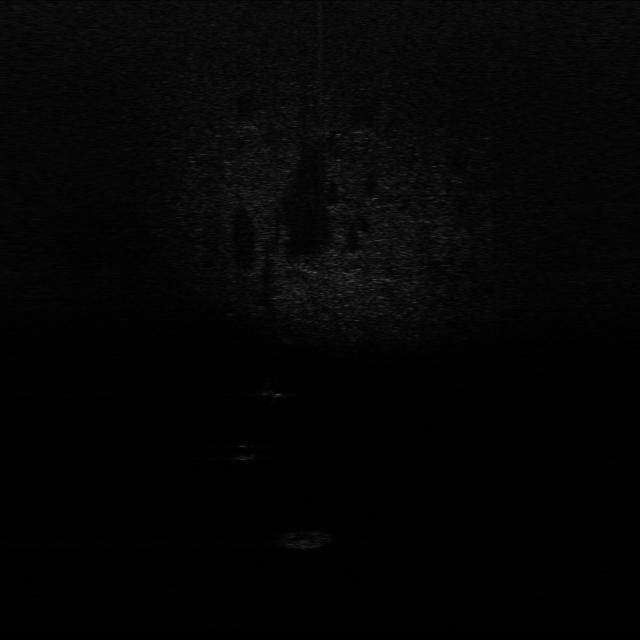ball: (230, 441, 260, 463)
circle cage: (276, 522, 340, 552)
human body: (258, 382, 292, 402)
